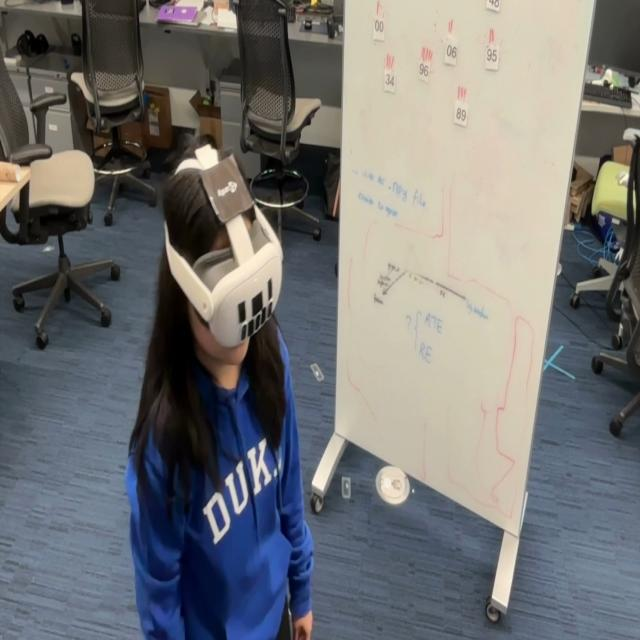Headset: (162, 143, 284, 350)
UnityLogo: (198, 150, 255, 226)
